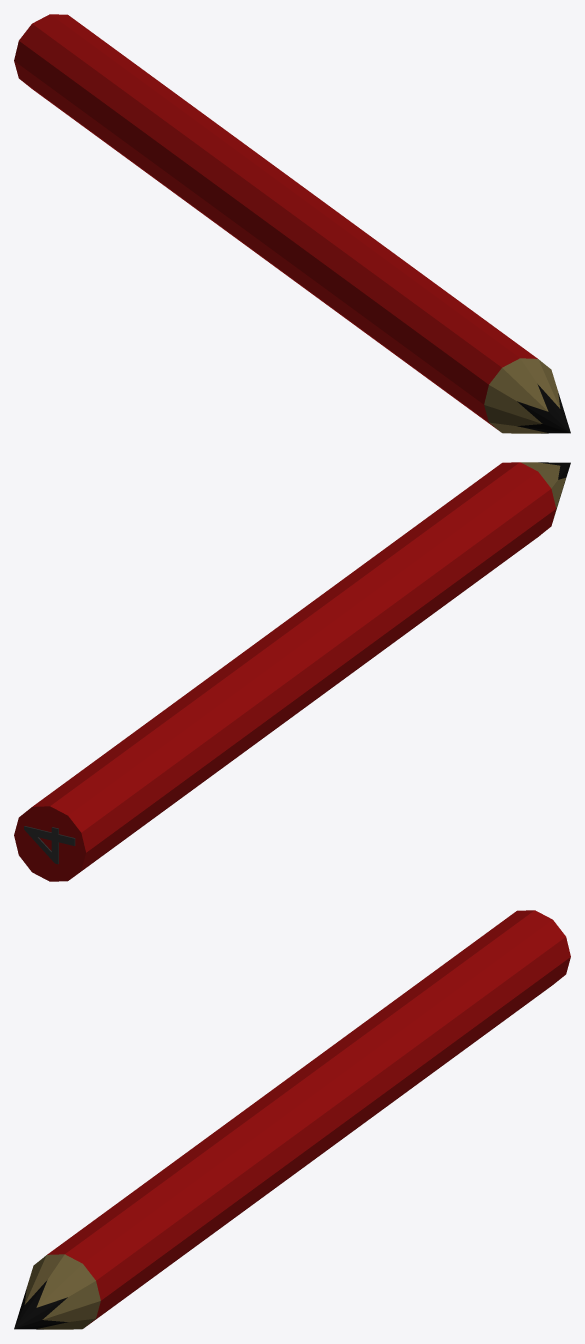
Rendered from red.obj.
3 views of the same model, one above another, from view 1: azimuth 30°, elevation 25°; view 2: azimuth 150°, elevation 25°; view 3: azimuth 330°, elevation 25° (orthographic).
Visible parts, largest first — view 1: redpencil; view 2: redpencil; view 3: redpencil.
Boxes of the visible parts, bbox=[...] form: redpencil: bbox=[14, 14, 570, 433]; redpencil: bbox=[14, 462, 570, 881]; redpencil: bbox=[14, 910, 570, 1329].
Bounding box in the file's own units: 0.02 × 0.02 × 0.2503.
